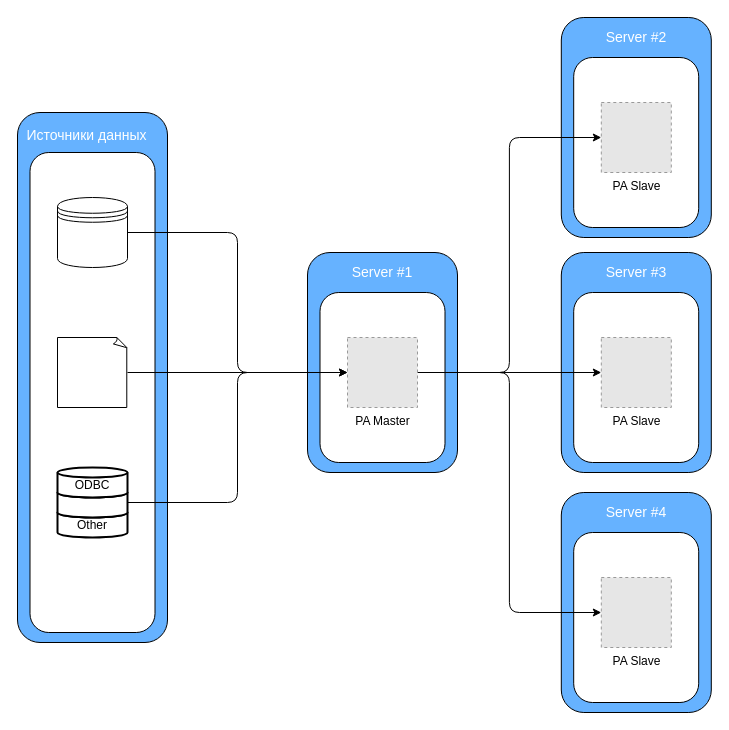
Some shapes in this 729 by 730 pixel diagram are drawn without their labels. Grey dashed boxes stand in for pictures. Each missing label, with the box of its shape:
Database: (56, 196, 128, 268)
File: (56, 336, 128, 408)
JDBC: (56, 486, 128, 518)
